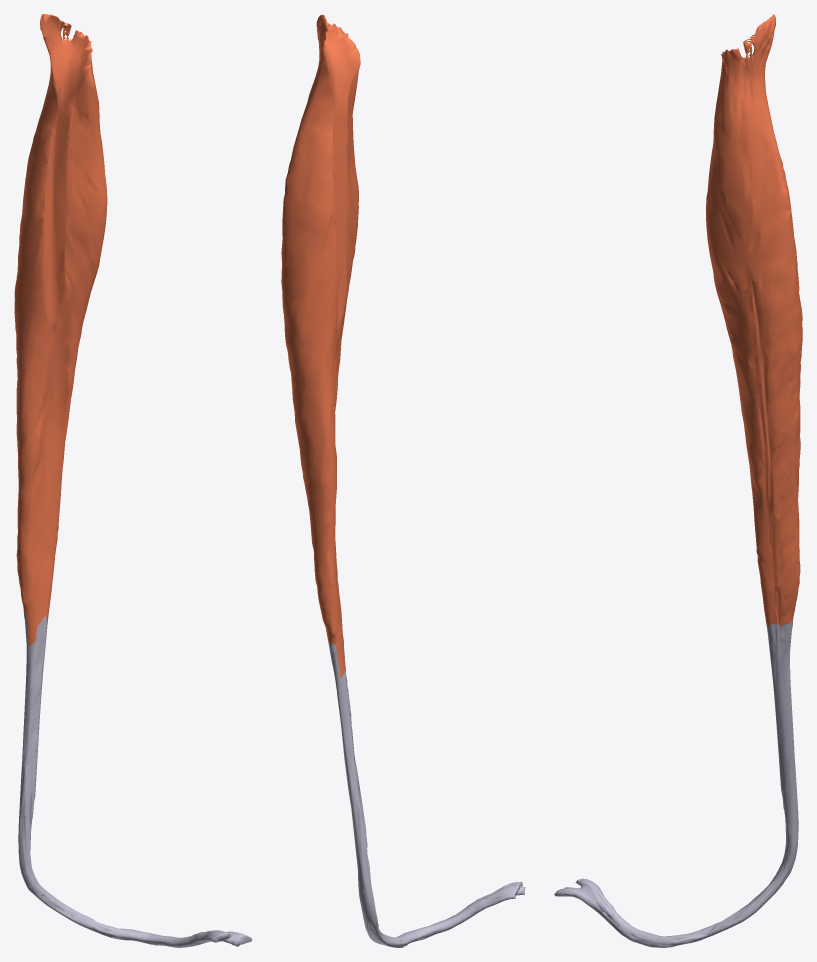
Rendered from Fibularis_longus.l_Generated_Mesh_From_X3D.857.glb.
3 renders of one model, left to right at view 1: azimuth 90°, elevation 25°; view 2: azimuth 150°, elevation 25°; view 3: azimuth 270°, elevation 25°, orthographic. The views are drawn at different scales.
Parts seen in each view (by area): view 1: Fibularis_longus.l_Generated_Mesh_From_X3D.857; view 2: Fibularis_longus.l_Generated_Mesh_From_X3D.857; view 3: Fibularis_longus.l_Generated_Mesh_From_X3D.857.
Boxes of the visible parts, x1,y1,x2,y2 form: Fibularis_longus.l_Generated_Mesh_From_X3D.857: (14,14,252,947); Fibularis_longus.l_Generated_Mesh_From_X3D.857: (281,14,525,947); Fibularis_longus.l_Generated_Mesh_From_X3D.857: (554,14,802,947).
Size of the model in its own units: 0.0588 by 0.3792 by 0.0897.
